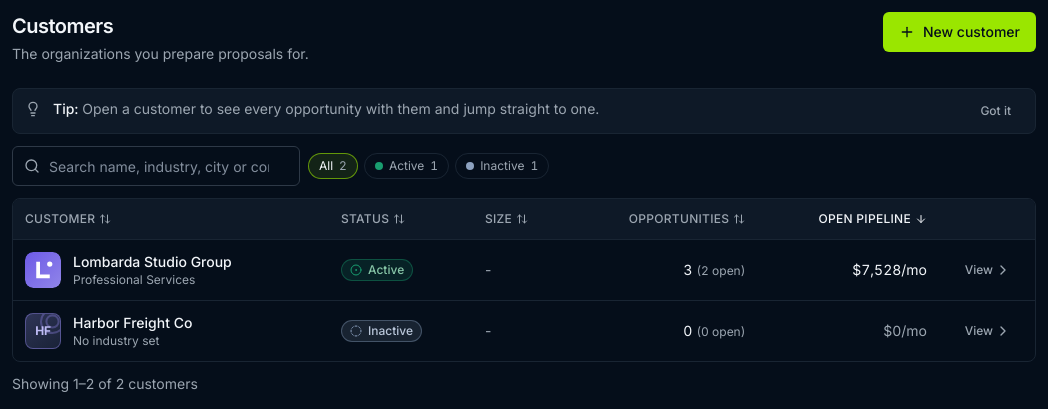
Test: CustomersPage › searches name and industry, and filters by status, in the browser
Expected: the text "Lombarda Studio Group" is shown, left=73, top=252, right=232, bottom=272
Expected: the button "Inactive 1" is shown, left=455, top=153, right=549, bottom=179
In the search field named "Search customers": x=156, y=166 left=12, top=146, right=300, bottom=186, type "professional"
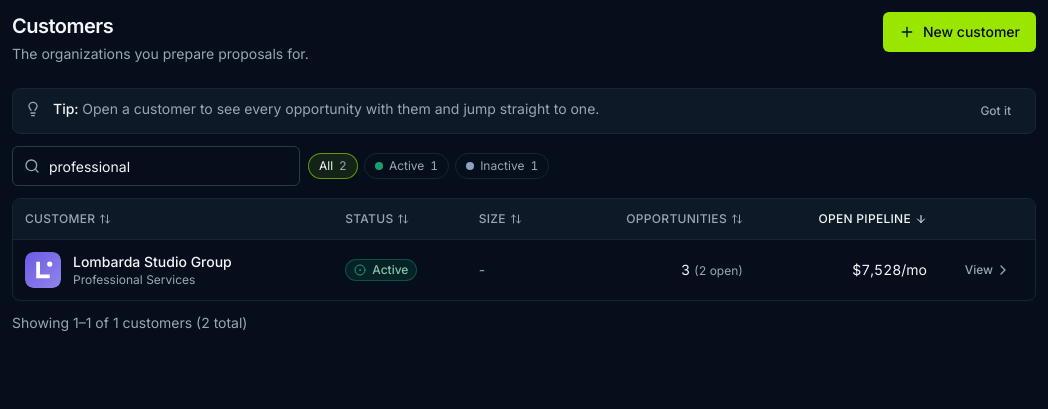
Expected: the text "Lombarda Studio Group" is shown, left=73, top=252, right=232, bottom=272
Expected: the text "Harbor Freight Co" is gone
Clear the search field named "Search customers": x=156, y=166 left=12, top=146, right=300, bottom=186
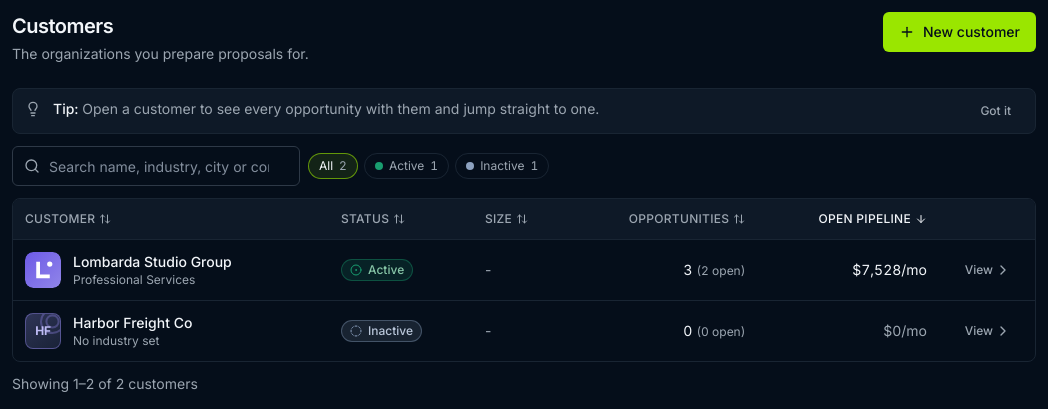
Click the button "Inactive 1": x=502, y=166 left=455, top=153, right=549, bottom=179
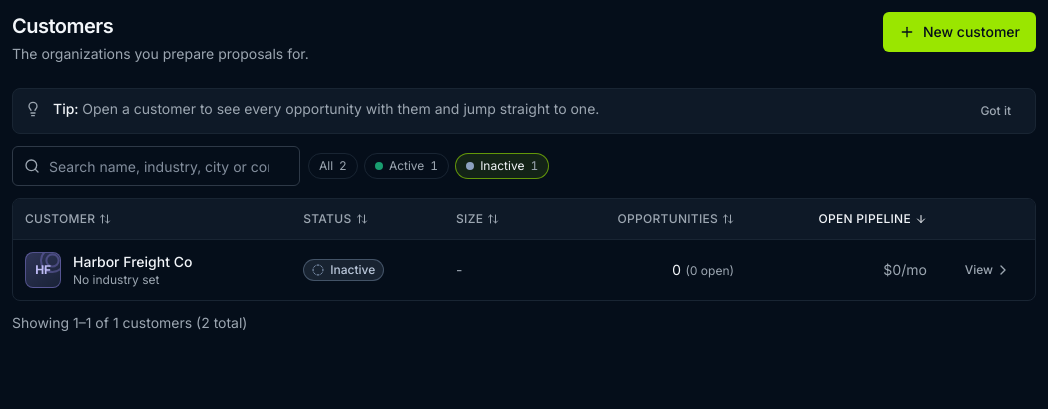
Expected: the text "Harbor Freight Co" is shown, left=73, top=252, right=192, bottom=272
Expected: the text "Lombarda Studio Group" is gone
